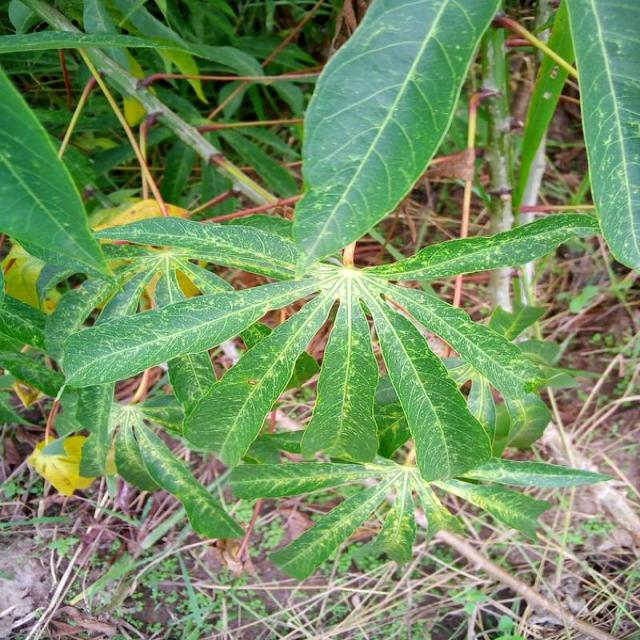cassava leaf: (4, 0, 634, 579), (291, 0, 502, 277), (0, 63, 110, 282), (562, 0, 639, 274)
